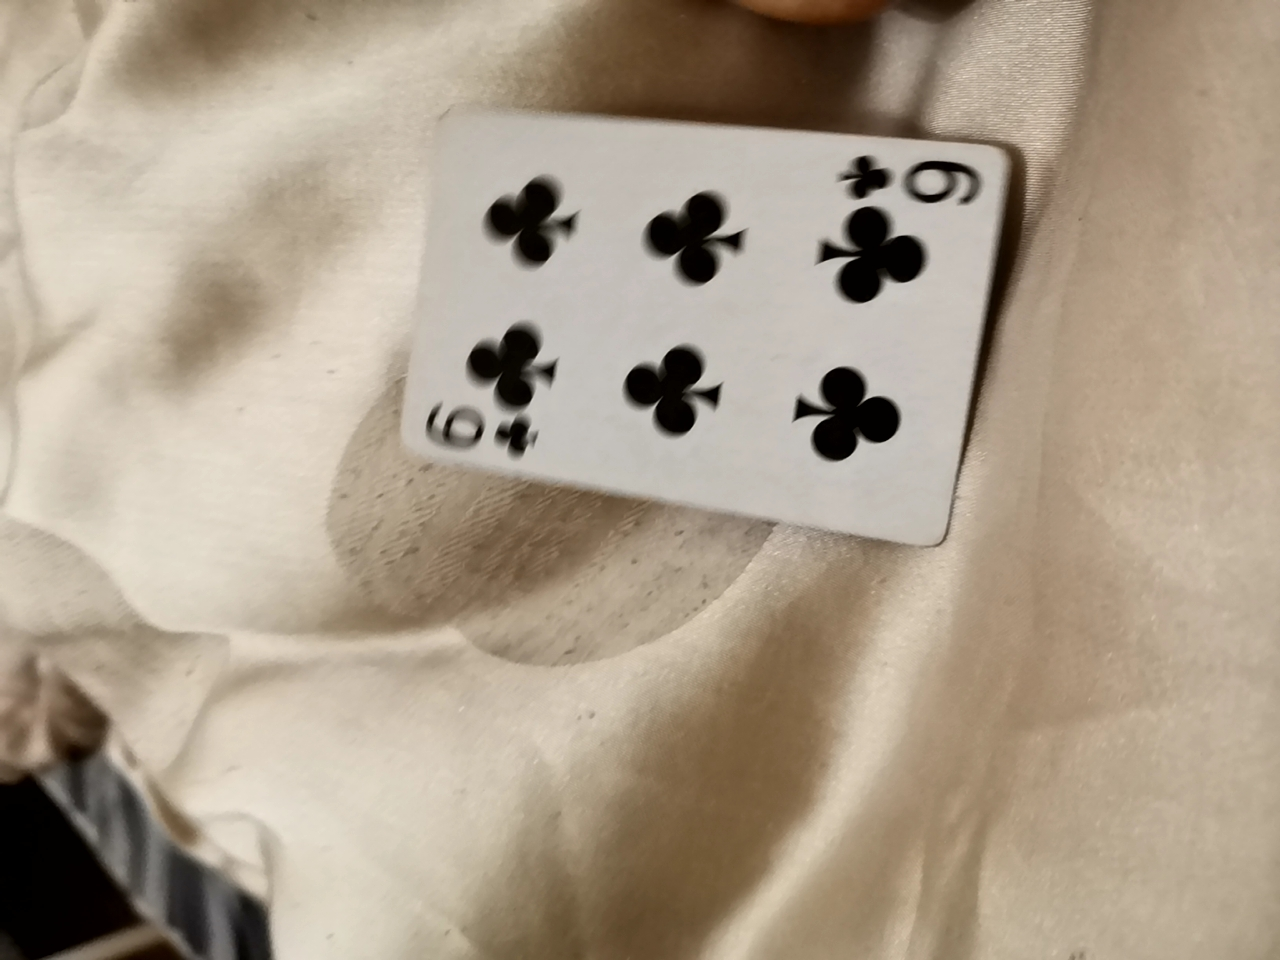mh 6: (339, 148, 888, 547)
